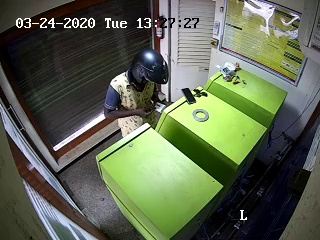helmet: (129, 48, 173, 95)
